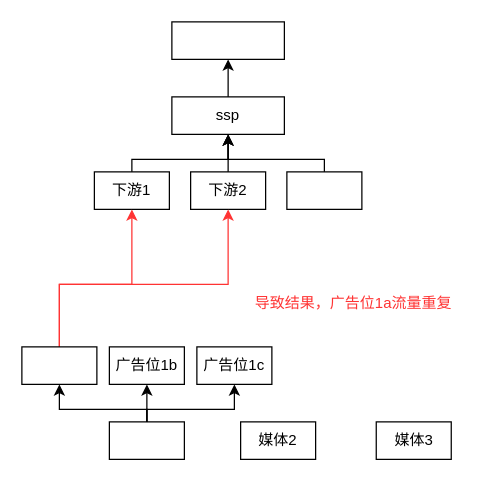
The diagram is 488 pixels wide and 481 high, and some of its shapes have lost their labels. The box of each missing label's shape, as (x1, y1, x2, y2) in pixels:
上游: (171, 21, 284, 59)
下游3: (286, 171, 362, 209)
媒体1: (108, 421, 184, 459)
广告位1a: (21, 346, 97, 384)
